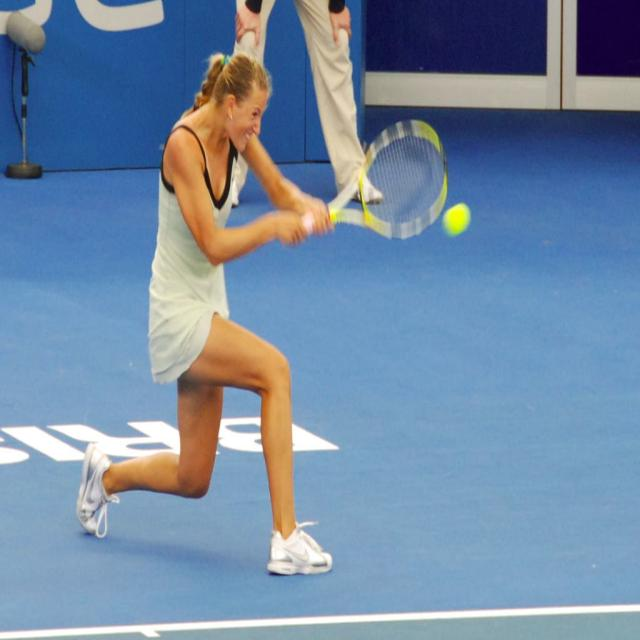Tennis ball: (441, 202, 471, 235), (442, 204, 471, 236)
